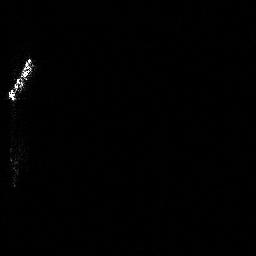ship: (3, 53, 40, 104)
